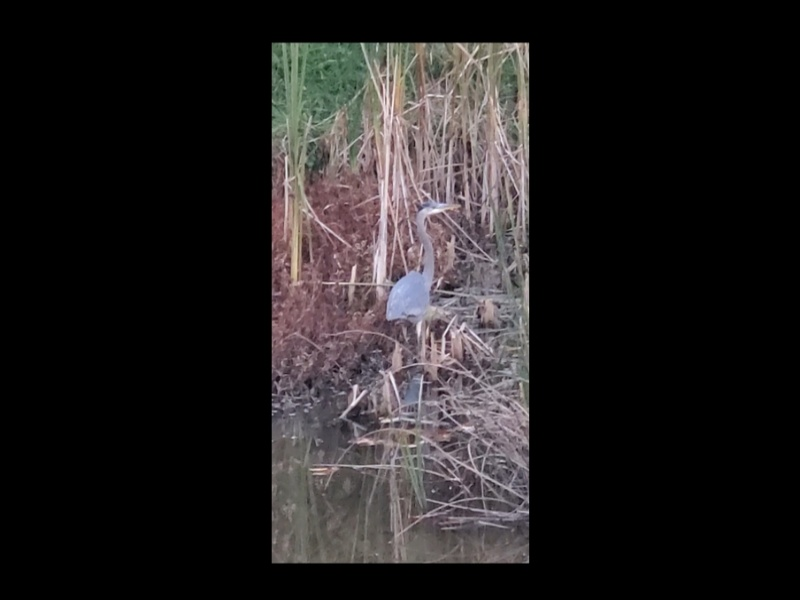heron: (385, 196, 461, 349)
